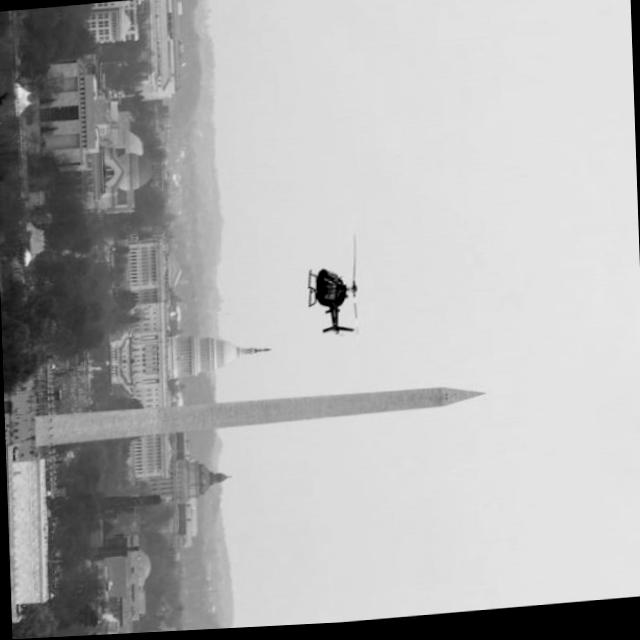helikopter: (283, 231, 370, 367)
